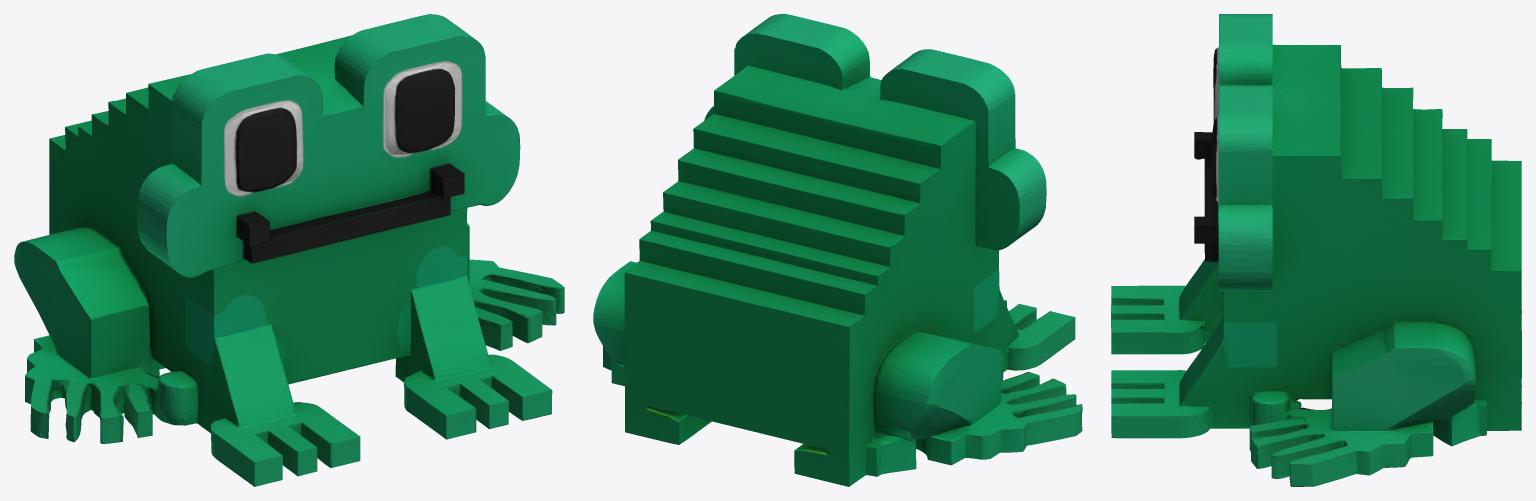
Rendered from tode.glb.
The picture shows the model from 3 angles, left to right: view 1: azimuth 30°, elevation 25°; view 2: azimuth 150°, elevation 25°; view 3: azimuth 270°, elevation 25°; orthographic projection. The views are drawn at different scales.
Visible parts, largest first — view 1: world; view 2: world; view 3: world.
Part boxes in pixels (x1,y1,x2,y2): world: [14, 14, 564, 486]; world: [593, 14, 1082, 486]; world: [1111, 14, 1521, 486].
Bounding box in the file's own units: 1 × 0.6345 × 0.7589.
Materials: 1 (1 with a texture image).
